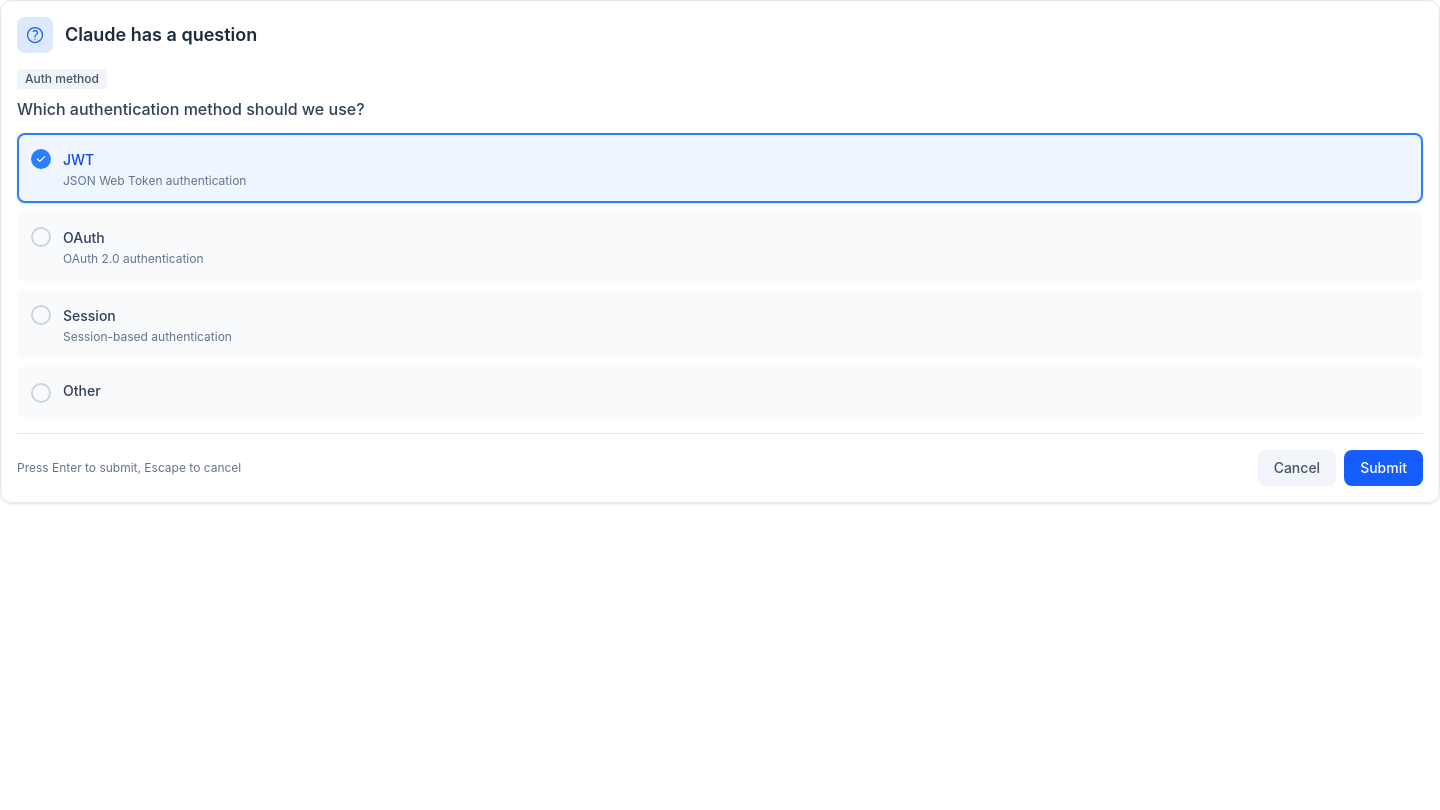
Scenario: AskUserQuestionPanel › shows text input when "Other" is selected
Click the button "Other" at (82, 390), box [17,367,1423,417]
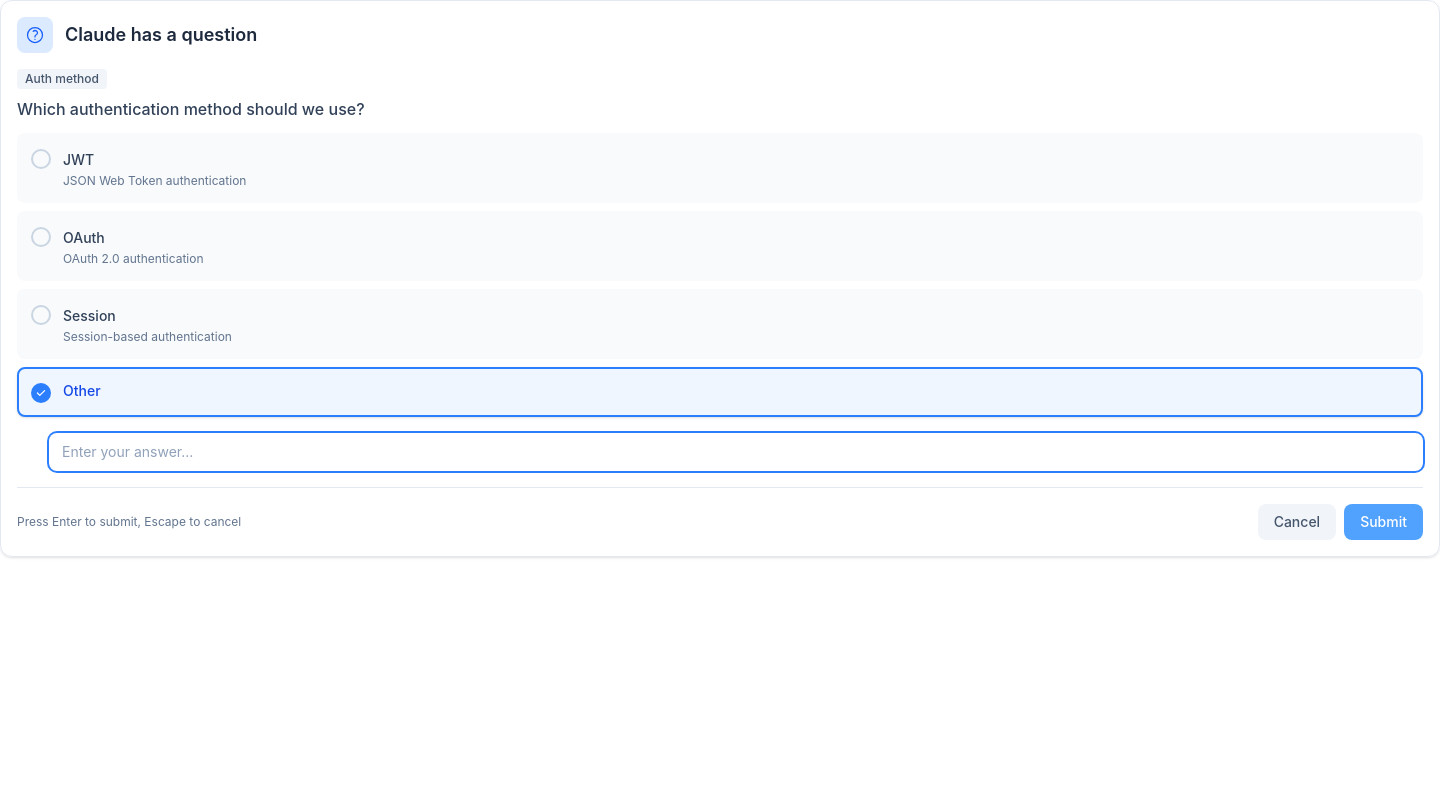
Check: the field with placeholder "Enter your answer..." is shown, box [49,433,1423,471]
